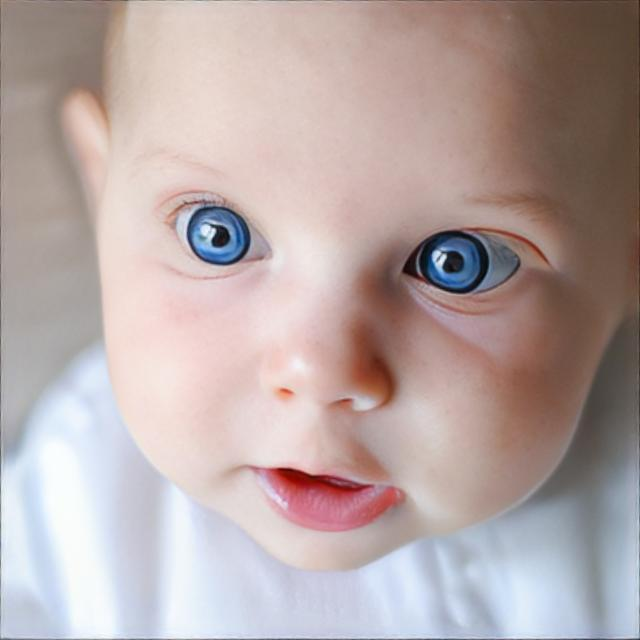surprise: (97, 0, 640, 574)
